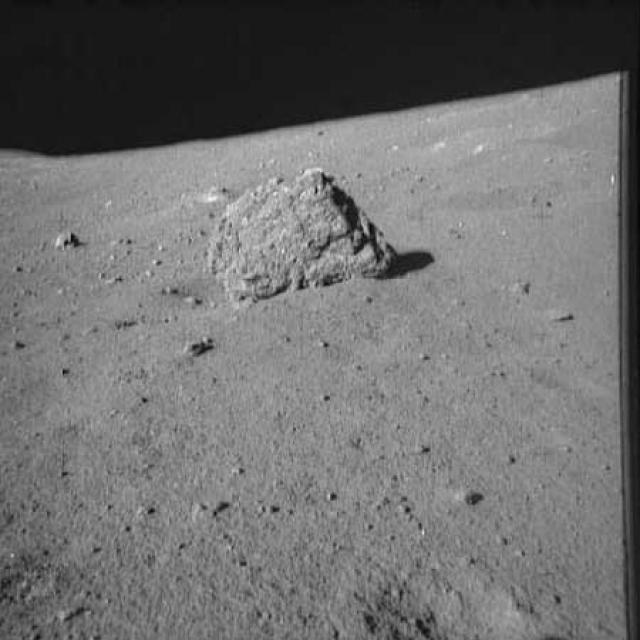rock: (205, 160, 395, 308), (174, 332, 228, 359), (191, 494, 233, 526), (52, 217, 84, 257), (446, 480, 482, 507), (506, 277, 541, 296), (409, 438, 440, 458), (7, 334, 31, 355), (182, 286, 205, 307), (128, 501, 152, 521), (414, 345, 436, 366), (102, 270, 120, 288), (317, 386, 334, 405), (160, 280, 177, 296), (318, 332, 333, 347), (150, 255, 166, 269)
